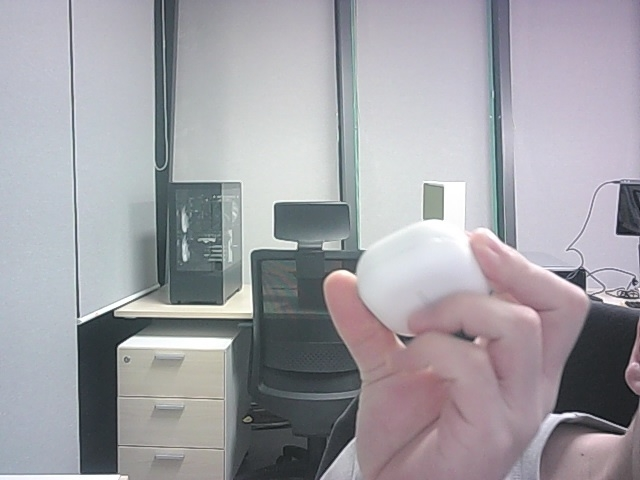case: (357, 220, 489, 335)
